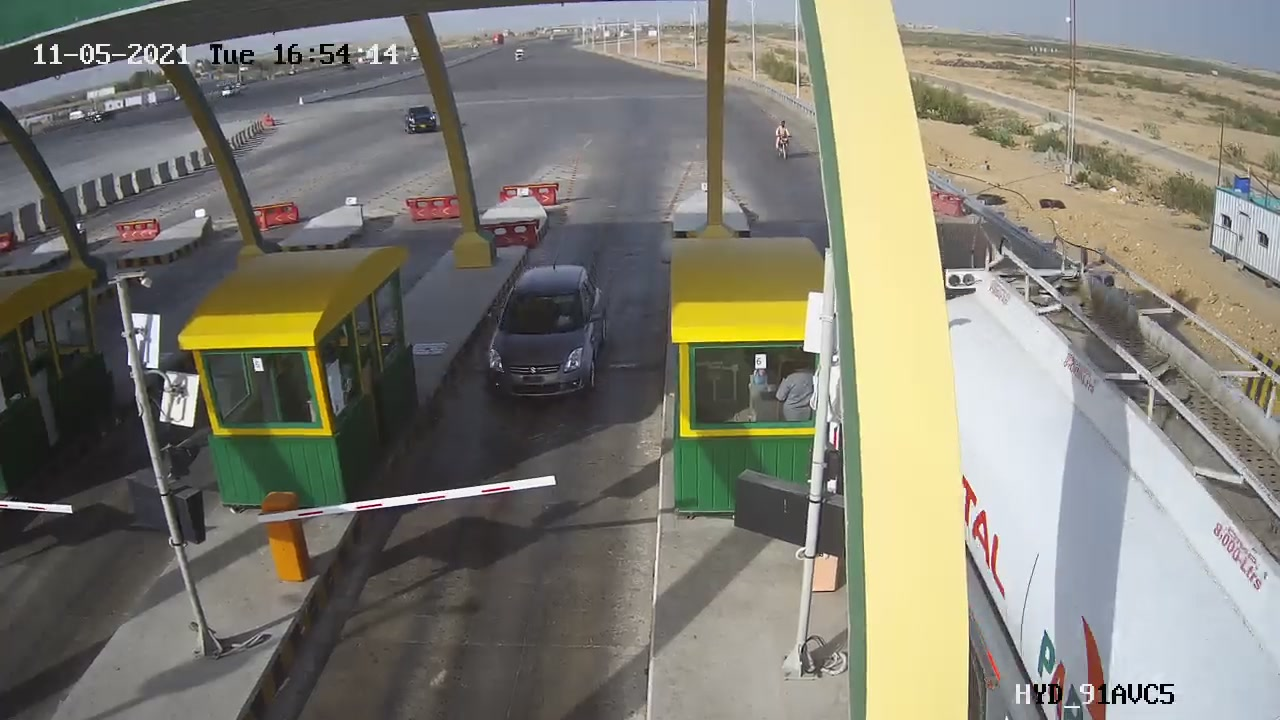F1: (467, 253, 627, 416)
